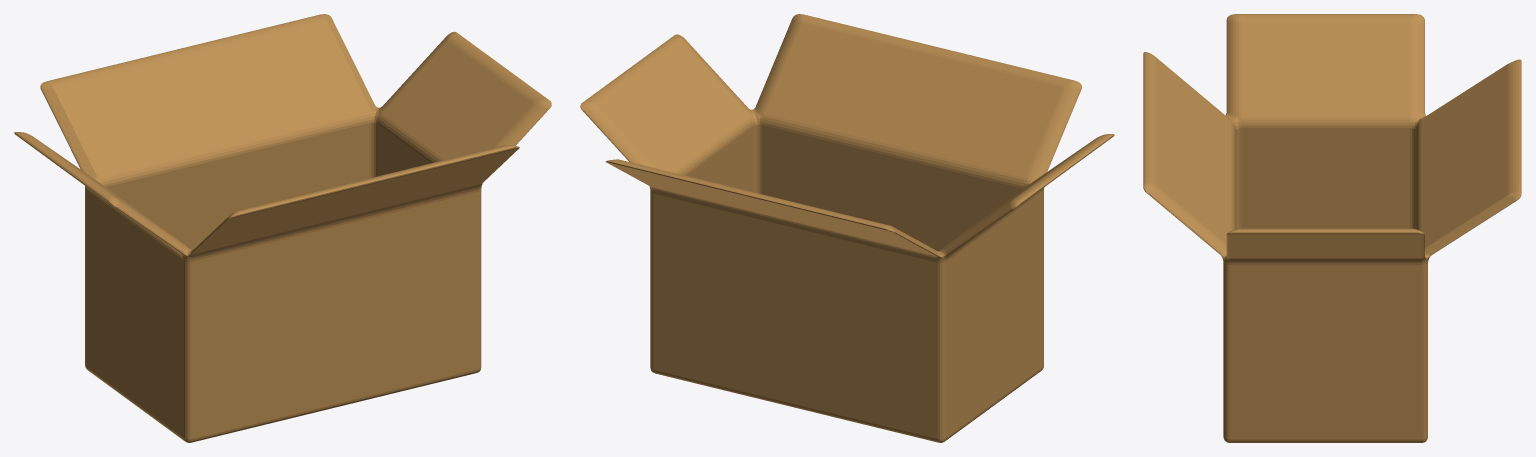
File: Kardus.glb
3 renders of one model, left to right at view 1: azimuth 30°, elevation 25°; view 2: azimuth 150°, elevation 25°; view 3: azimuth 270°, elevation 25°, orthographic.
Visible parts, largest first — view 1: Cube; view 2: Cube; view 3: Cube.
Part boxes in pixels (x1=…): Cube: x1=14, y1=14, x2=551, y2=442; Cube: x1=580, y1=14, x2=1114, y2=442; Cube: x1=1143, y1=14, x2=1521, y2=442.
Size of the model in its own units: 4.89 by 2.75 by 3.7.
